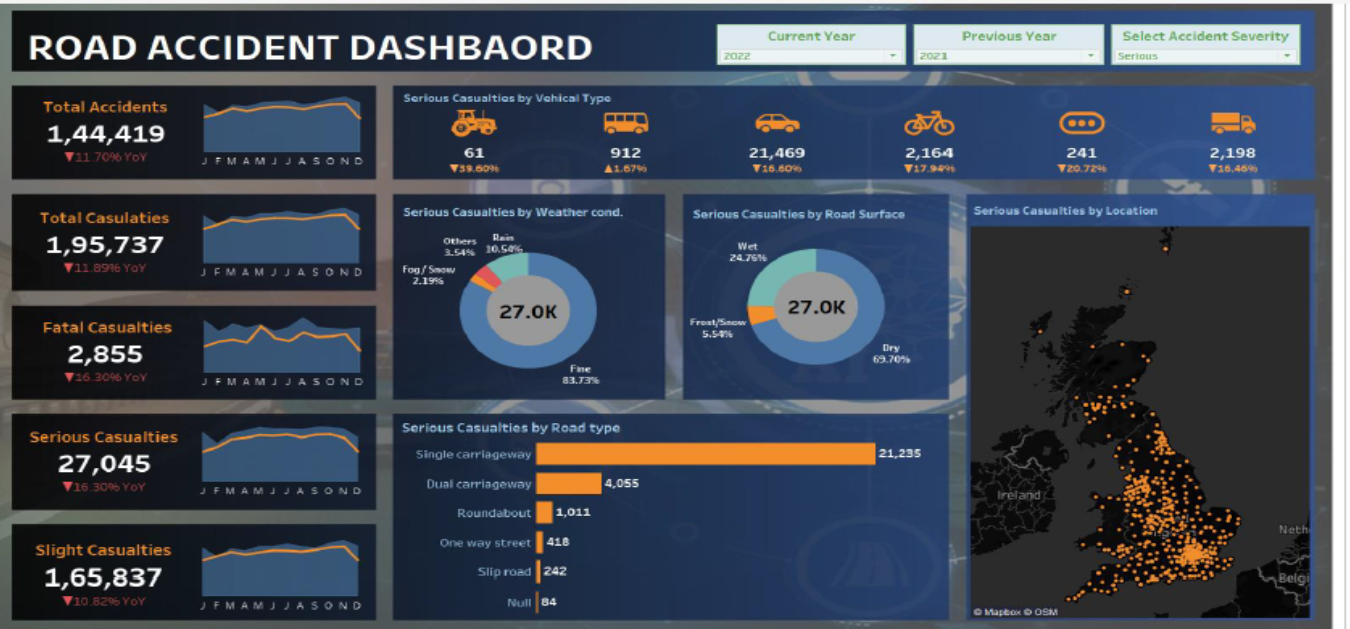

What the dashboard file says about the page in this screenshot:
{"tool":"tableau","page":{"name":"Dashboard 1","canvas":[1600,900],"ordinal":0},"visuals":[{"type":"image","param":"D:/!Learn Data Analyst/Tableau/Background.jpg","box":[8,8,1584,884]},{"type":"parameter","param":"[Parameters].[Parameter 1]","box":[858,44,229,65]},{"type":"parameter","param":"[Parameters].[Current Year (copy)_671317872335650817]","box":[1087,44,229,65]},{"type":"parameter","param":"[Parameters].[Parameter 2]","box":[1316,44,229,65]},{"type":"text","box":[50,50,678,55]},{"type":"text","box":[489,137,278,27]},{"type":"worksheet","title":"Total Accidents ","mark":"Automatic","box":[47,141,205,110]},{"type":"worksheet","title":"Accident Sparkline","mark":"Automatic","rows":["CY Accidents (copy)_671317872337870851","Calculation_671317872336297986"],"cols":["Accident Date"],"box":[252,141,205,110]},{"type":"worksheet","title":"Vehicle Type image","mark":"Shape","box":[491,159,1060,50]},{"type":"worksheet","title":"Vehicle Type","mark":"Automatic","box":[491,209,1060,50]},{"type":"text","box":[493,291,281,32]},{"type":"worksheet","title":"Location ","mark":"Automatic","rows":["Latitude"],"cols":["Longitude"],"box":[1156,291,396,575]},{"type":"worksheet","title":"Total Casualties","mark":"Automatic","box":[46,294,205,110]},{"type":"worksheet","title":"Casualties Sparkline ","mark":"Automatic","rows":["CA Casulaties (copy)_671317872372068358","Calculation_671317872370335749"],"cols":["Accident Date"],"box":[251,294,205,110]},{"type":"text","box":[831,295,290,30]},{"type":"worksheet","title":"Road Surface","mark":"Pie","rows":["Calculation_675539997291675649","Calculation_675539997291708419"],"box":[824,321,307,234]},{"type":"worksheet","title":"Weather Cond.","mark":"Pie","rows":["Calculation_675539997291675649","Calculation_675539997291708419"],"box":[488,332,308,223]},{"type":"worksheet","title":"Fatal Casualties","mark":"Automatic","box":[47,445,205,110]},{"type":"worksheet","title":"Fatal Casualties Sparkline","mark":"Automatic","rows":["CY Fatal Casulaties (copy)_671317872378171401","Calculation_671317872377176072"],"cols":["Accident Date"],"box":[252,445,205,110]},{"type":"text","box":[491,586,338,36]},{"type":"worksheet","title":"Serious Casualties","mark":"Automatic","box":[45,596,205,110]},{"type":"worksheet","title":"Serious Casualties Sparkline","mark":"Automatic","rows":["PY Fatal Casualties (copy)_671317872381030413","CY Fatal Casualties (copy)_671317872380891148"],"cols":["Accident Date"],"box":[250,596,205,110]},{"type":"worksheet","title":"Road Type","mark":"Automatic","rows":["Road_Type"],"cols":["Calculation_671317872370335749"],"box":[491,621,634,243]},{"type":"worksheet","title":"Slight Casualties","mark":"Automatic","box":[45,752,205,110]},{"type":"worksheet","title":"Slight Casualties Sparkline ","mark":"Automatic","rows":["PY Serious Casualties (copy)_671317872381571087","CY Serious Casualties  (copy)_671317872381394958"],"cols":["Accident Date"],"box":[250,752,205,110]}]}

Visuals, with their boxes on the page's 1600x900 design canvas (x1, y1, x2, y2). These are canvas units, not pixel positions in the 1350x629 screenshot, which may show the page scaled, cropped or inside an application window:
image: 8:8:1592:892
parameter: 858:44:1087:109
parameter: 1087:44:1316:109
parameter: 1316:44:1545:109
text: 50:50:728:105
text: 489:137:767:164
"Total Accidents " worksheet: 47:141:252:251
"Accident Sparkline" worksheet: 252:141:457:251
"Vehicle Type image" worksheet (Shape marks): 491:159:1551:209
"Vehicle Type" worksheet: 491:209:1551:259
text: 493:291:774:323
"Location " worksheet: 1156:291:1552:866
"Total Casualties" worksheet: 46:294:251:404
"Casualties Sparkline " worksheet: 251:294:456:404
text: 831:295:1121:325
"Road Surface" worksheet (Pie marks): 824:321:1131:555
"Weather Cond." worksheet (Pie marks): 488:332:796:555
"Fatal Casualties" worksheet: 47:445:252:555
"Fatal Casualties Sparkline" worksheet: 252:445:457:555
text: 491:586:829:622
"Serious Casualties" worksheet: 45:596:250:706
"Serious Casualties Sparkline" worksheet: 250:596:455:706
"Road Type" worksheet: 491:621:1125:864
"Slight Casualties" worksheet: 45:752:250:862
"Slight Casualties Sparkline " worksheet: 250:752:455:862
